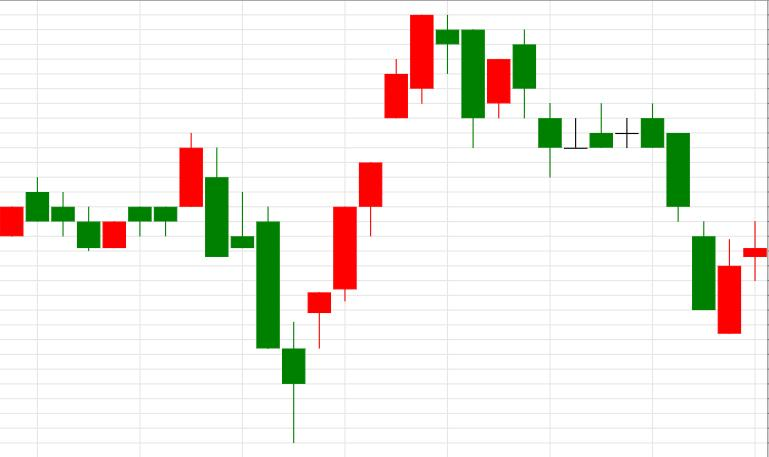three_white_soldiers_rise: (205, 147, 382, 442)
